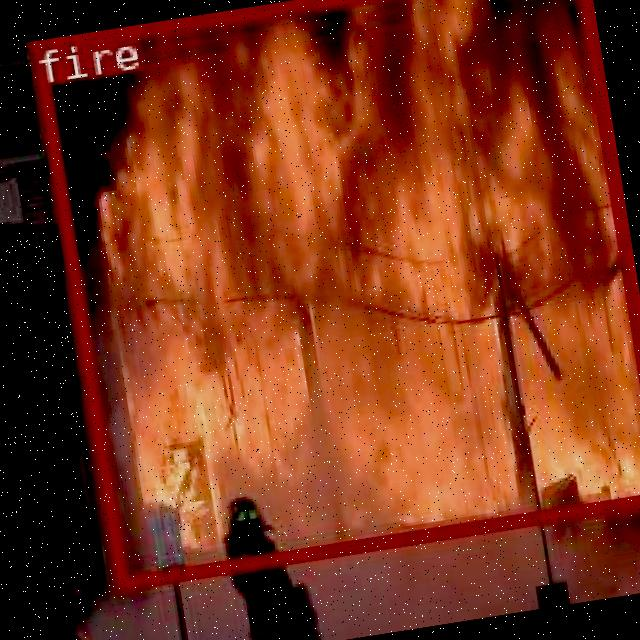fire: (27, 0, 640, 586)
